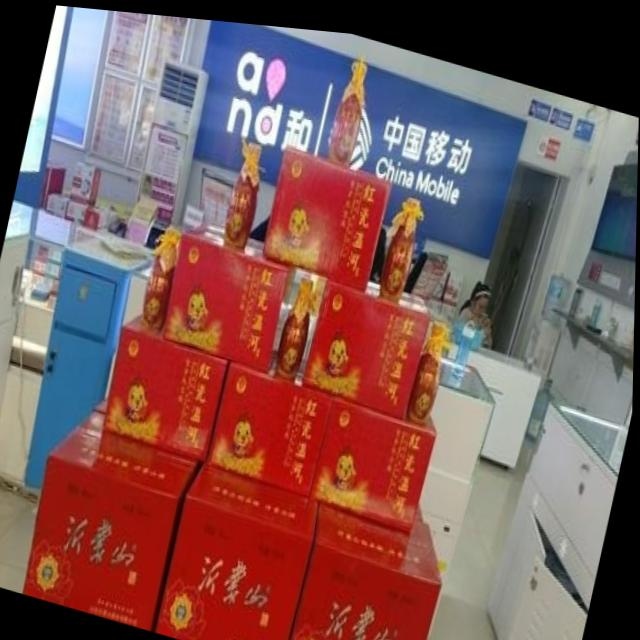box: (25, 407, 203, 625), (158, 456, 320, 640), (292, 491, 444, 640), (165, 216, 299, 367), (105, 305, 230, 456), (263, 141, 391, 282), (304, 268, 431, 410), (209, 353, 337, 490), (312, 382, 438, 521), (98, 387, 111, 410)
